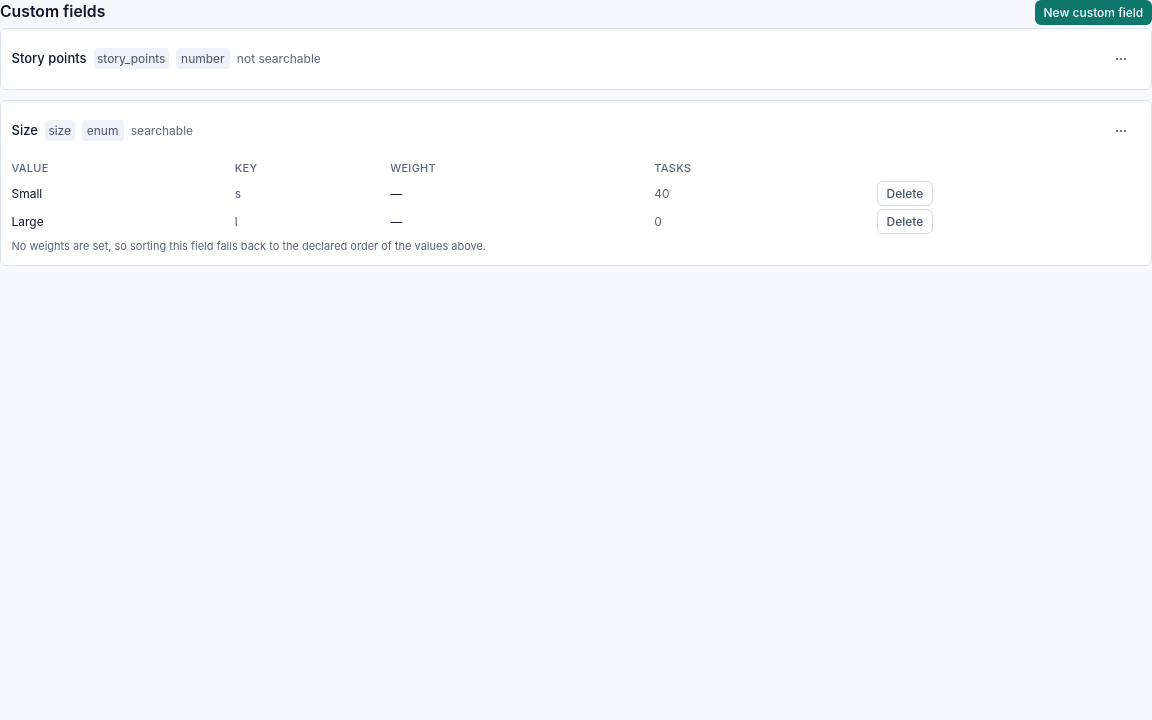
Test: CustomFieldsPanel — CRUD (SET-49, SET-16) › the Edit dialog locks type and multi, disabled and with the reason shown
Expected: the element with test id "custom-fields-list" is shown, [0, 28, 1151, 266]
Click the button named "Actions for custom field \"Story points\"" at (1121, 59), box [1102, 40, 1140, 78]
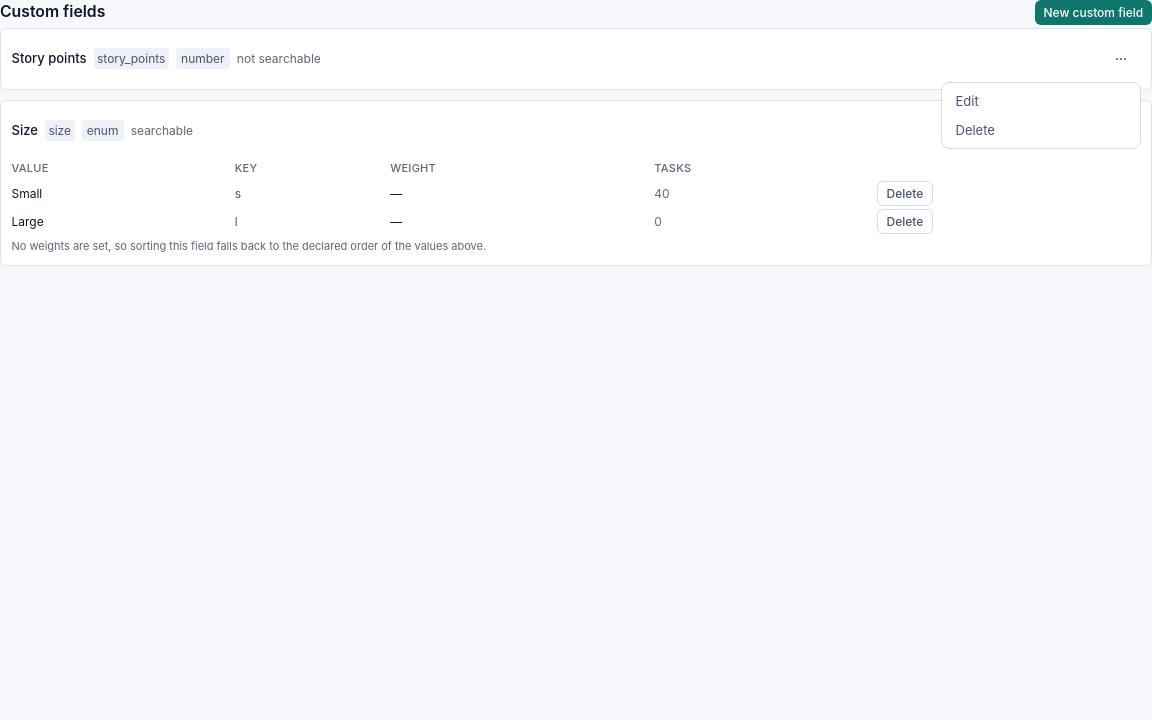
Click the menu item with test id "custom-field-edit-story_points" at (1040, 101), box [945, 86, 1136, 116]
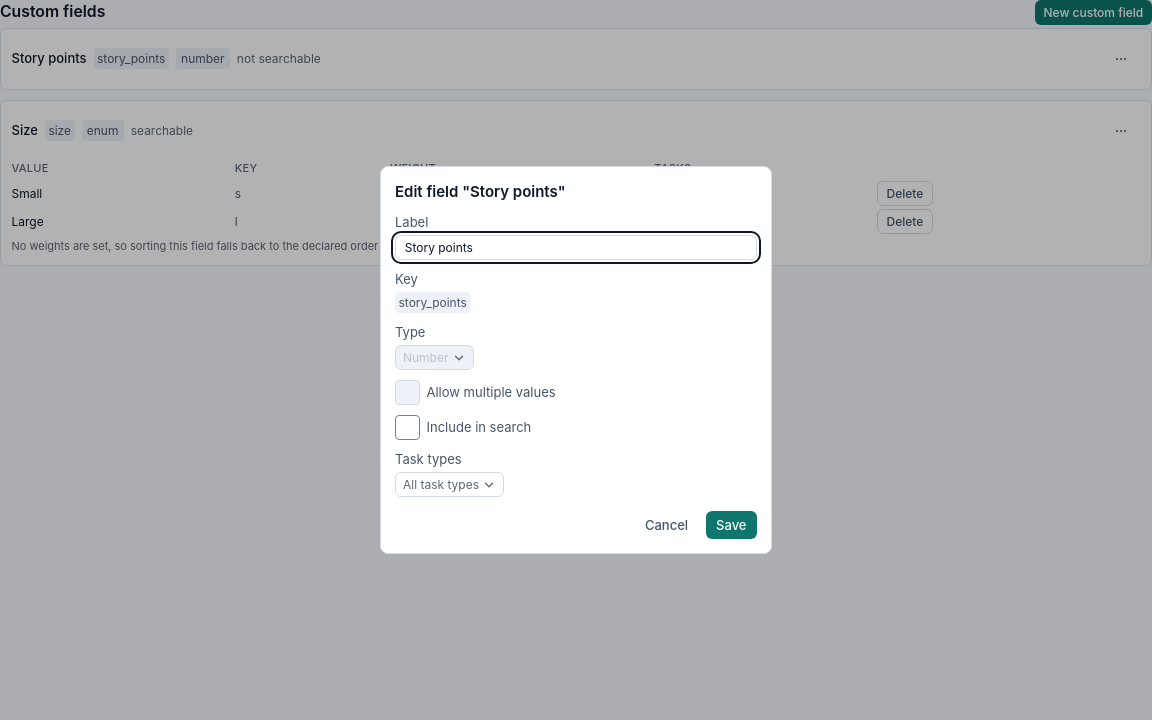
Expected: the button with test id "custom-field-dialog-type" is disabled, [395, 345, 474, 370]
Expected: the checkbox with test id "custom-field-dialog-multi" is disabled, [395, 380, 420, 405]
Expected: the field with test id "custom-field-dialog-label" is enabled, [395, 235, 757, 260]
